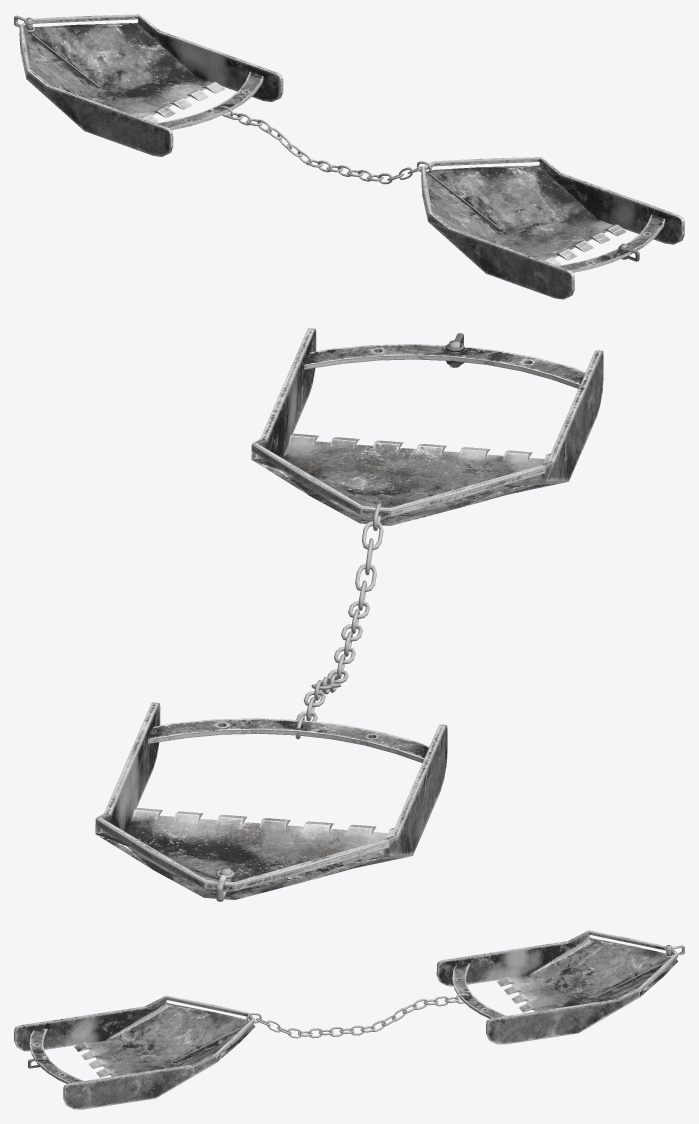
File: Chain Only scrapers.fbx
3 views of the same model, one above another, from view 1: azimuth 30°, elevation 25°; view 2: azimuth 150°, elevation 25°; view 3: azimuth 270°, elevation 25° (orthographic). The views are drawn at different scales.
Parts seen in each view (by area): view 1: Scraper; view 2: Scraper; view 3: Scraper.
Part boxes in pixels (x1,y1,x2,y2): Scraper: [14, 14, 684, 299]; Scraper: [95, 328, 603, 901]; Scraper: [14, 930, 684, 1109].
Bounding box in the file's own units: 220 × 28.69 × 422.
